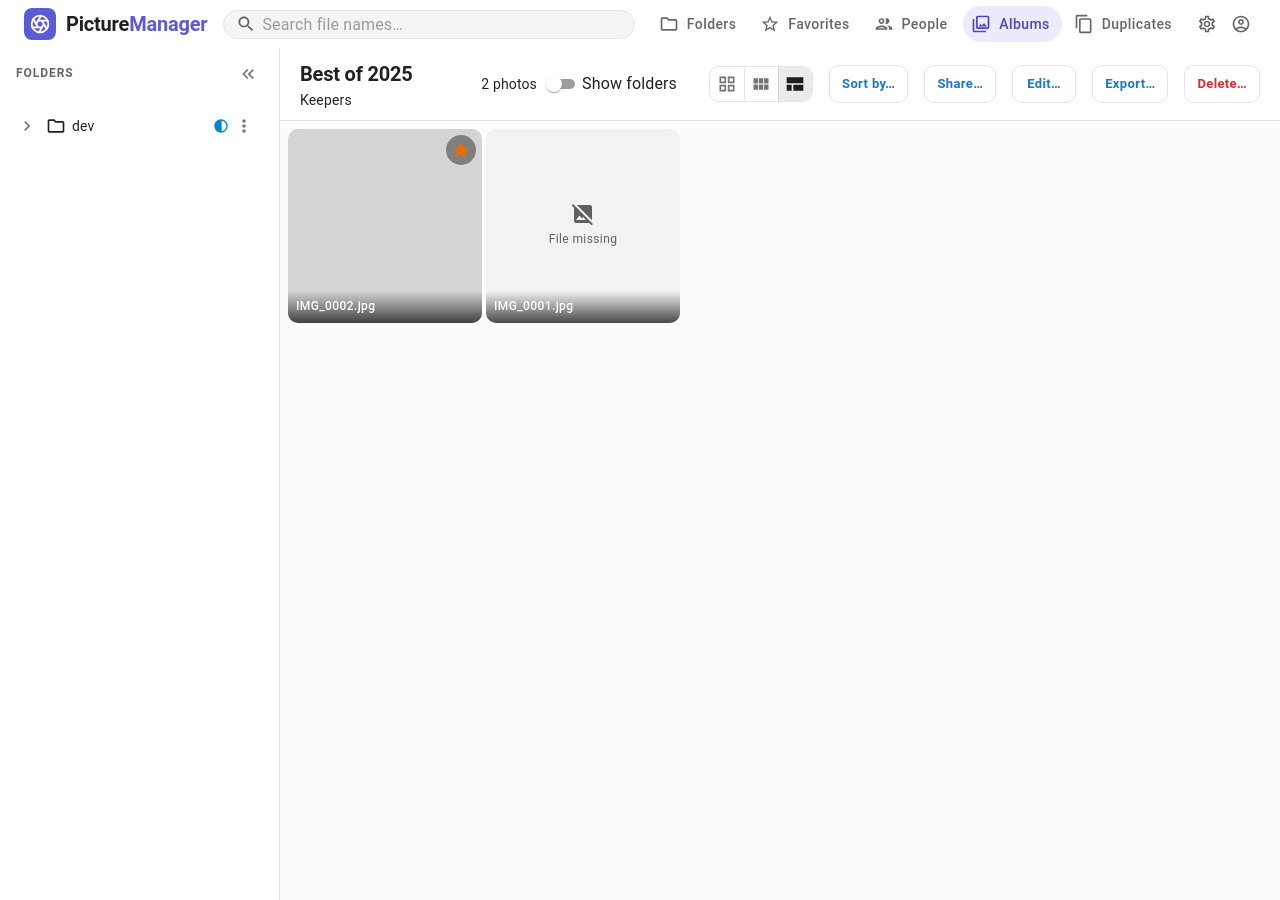
Test: ExportDialog › warns when some files are missing on disk
Click the button "Export…" at [1130, 84], box left=1092, top=65, right=1168, bottom=103
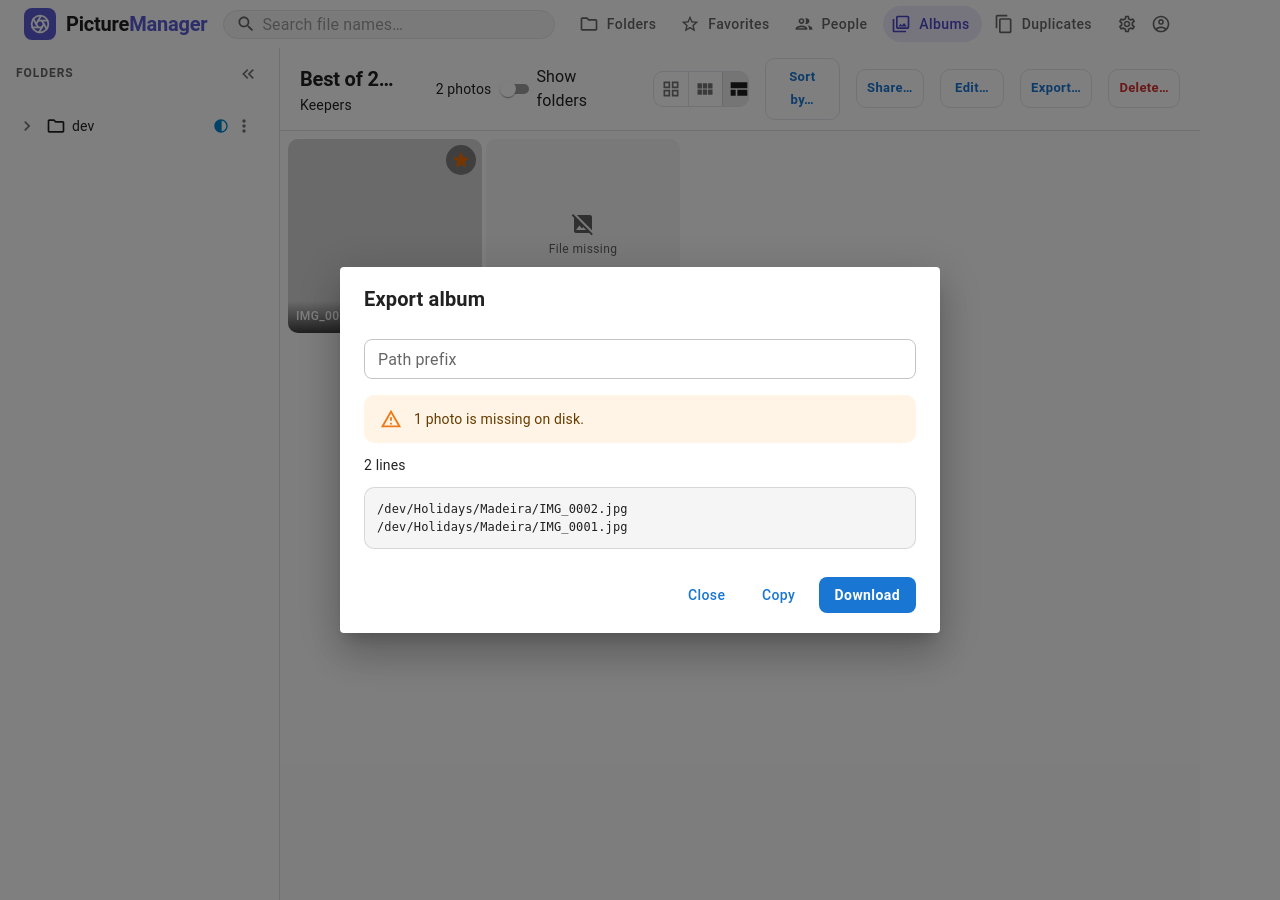
Result: the dialog "Export album" is shown at left=340, top=267, right=940, bottom=633
Result: the text "1 photo is missing on disk." is shown at left=414, top=411, right=584, bottom=427
